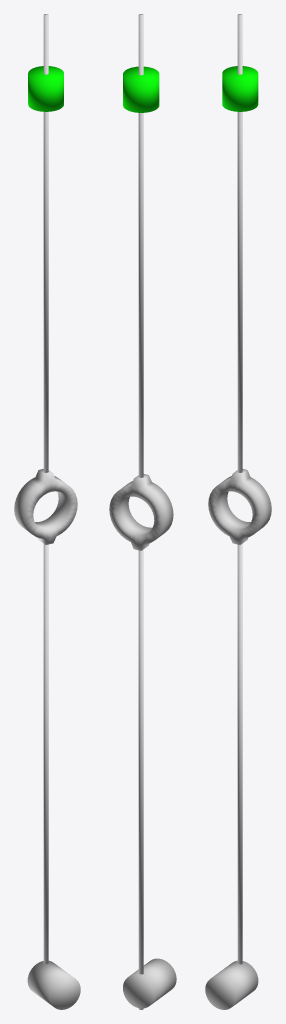
File: pendel1.obj
3 renders of one model, left to right at view 1: azimuth 30°, elevation 25°; view 2: azimuth 150°, elevation 25°; view 3: azimuth 330°, elevation 25°, orthographic.
Parts seen in each view (by area): view 1: Cylinder.007; view 2: Cylinder.007; view 3: Cylinder.007.
Part boxes in pixels (x1,y1,x2,y2): Cylinder.007: (14,14,80,1009); Cylinder.007: (109,14,176,1009); Cylinder.007: (205,14,271,1009).
Bounding box in the file's own units: 0.5854 × 10.4 × 0.544.
